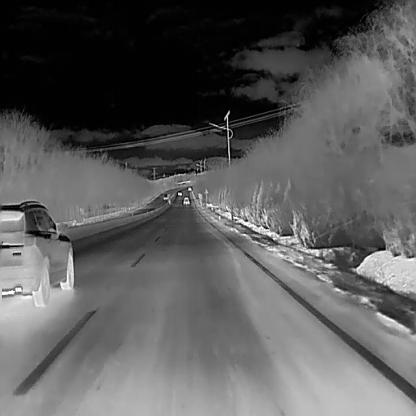car: (0, 197, 73, 306), (183, 196, 189, 203), (162, 193, 168, 199), (177, 189, 182, 195), (188, 186, 192, 190)
